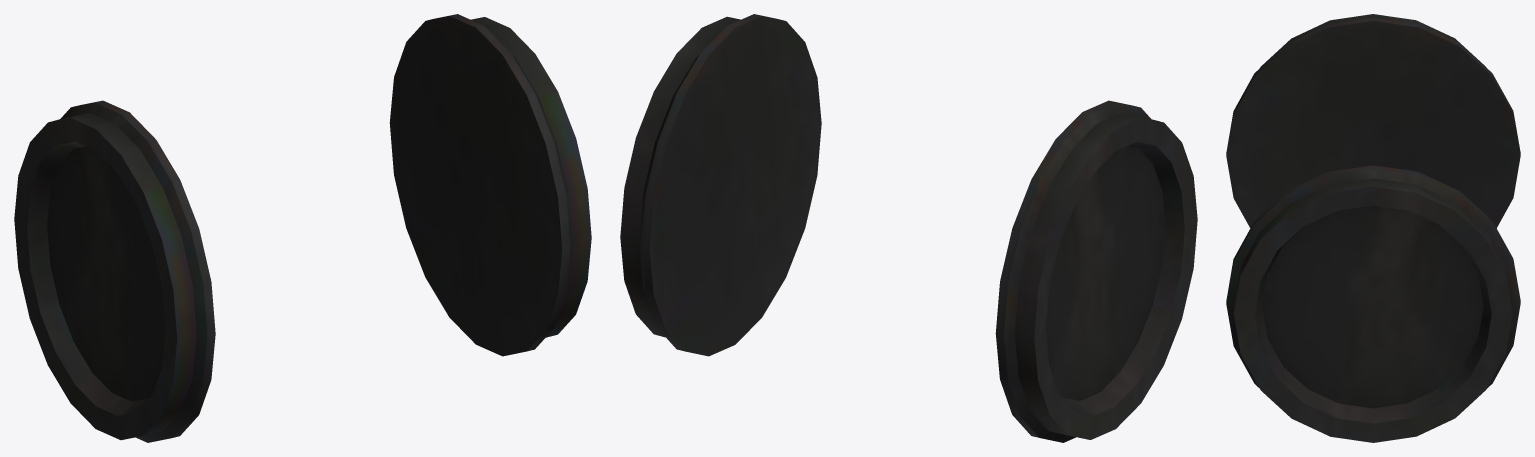
Rendered from wheelset.glb.
3 renders of one model, left to right at view 1: azimuth 30°, elevation 25°; view 2: azimuth 150°, elevation 25°; view 3: azimuth 270°, elevation 25°, orthographic. The views are drawn at different scales.
Visible parts, largest first — view 1: Wheel_Left, Wheel_Right; view 2: Wheel_Right, Wheel_Left; view 3: Wheel_Left, Wheel_Right.
Boxes of the visible parts, bbox=[...] form: Wheel_Left: bbox=[389, 14, 591, 356]; Wheel_Right: bbox=[14, 100, 215, 442]; Wheel_Right: bbox=[995, 100, 1197, 442]; Wheel_Left: bbox=[620, 14, 821, 356]; Wheel_Left: bbox=[1226, 165, 1520, 442]; Wheel_Right: bbox=[1226, 14, 1520, 228].
Bounding box in the file's own units: 1.56 × 1.14 × 1.12.
1 material, 1 textured.
